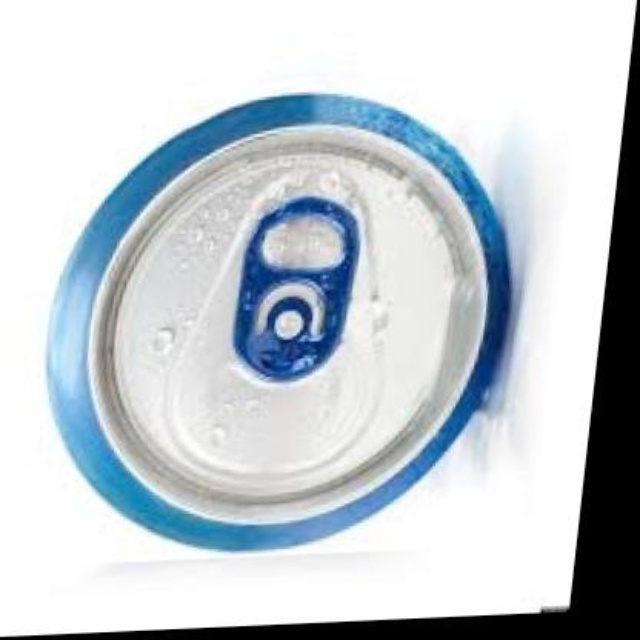trash: (0, 0, 634, 634), (45, 91, 512, 552), (48, 94, 509, 549)
